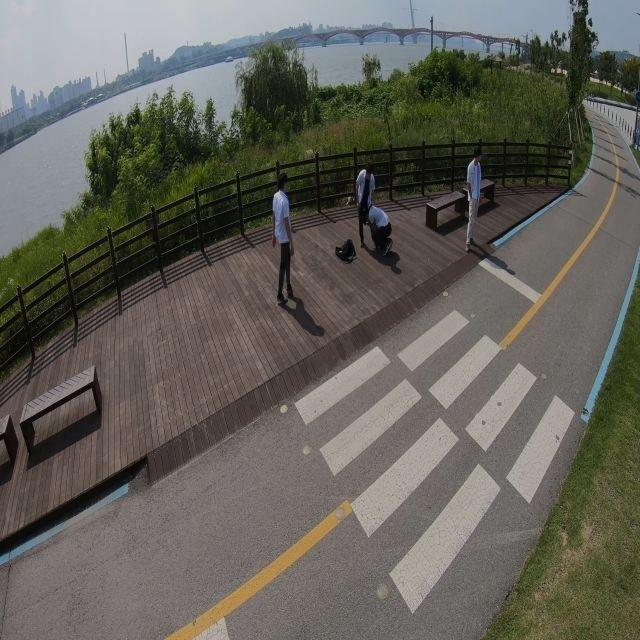fight: (352, 165, 392, 257)
non-fight: (272, 173, 296, 306), (462, 146, 482, 253)
